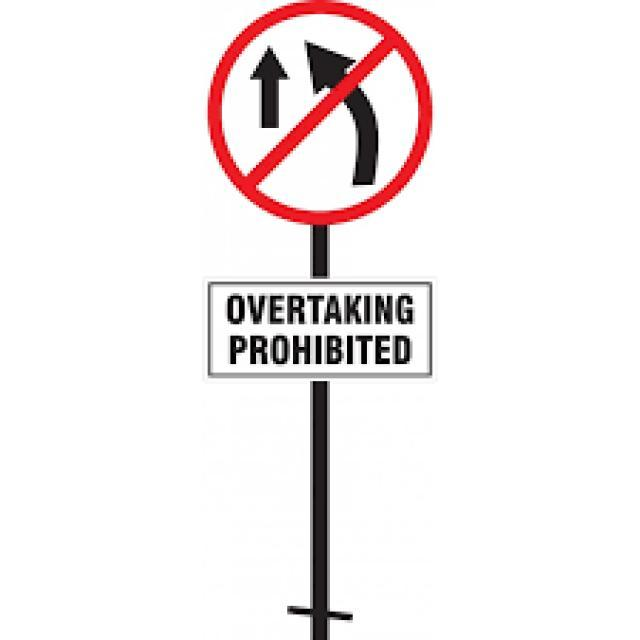overtaking prohibited: (200, 4, 437, 229)
